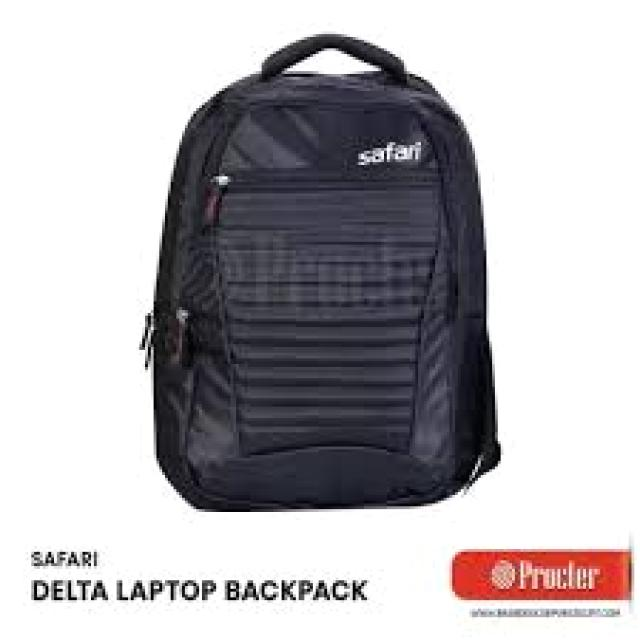backpack: (141, 33, 502, 513)
